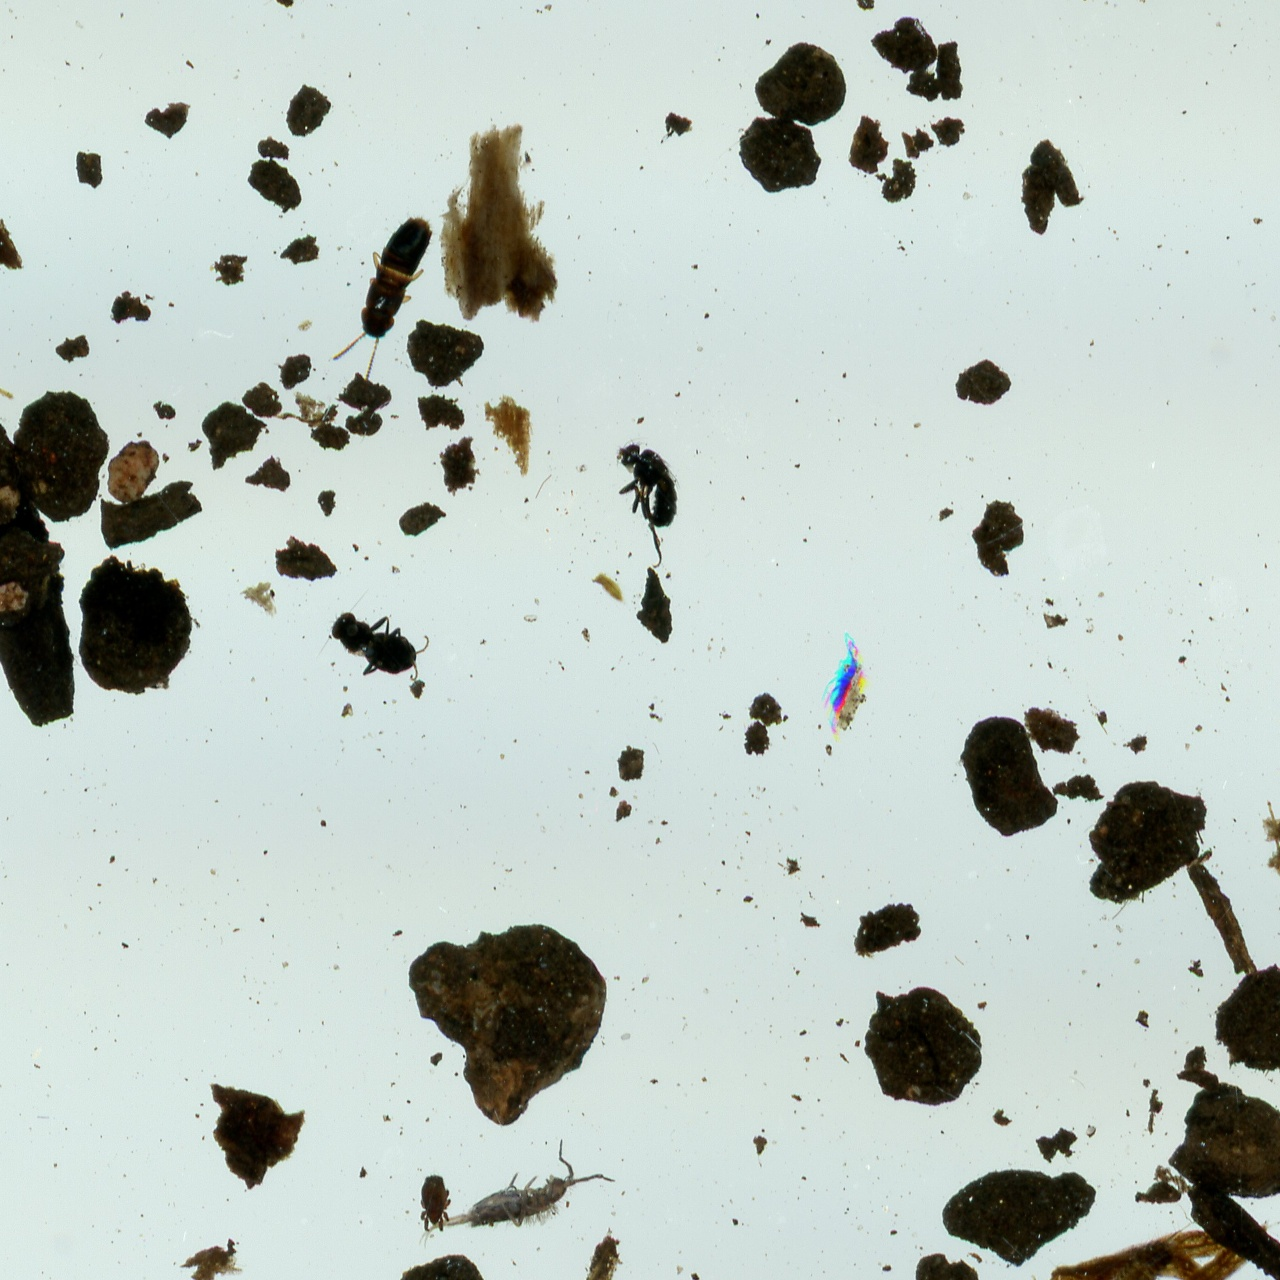arthropod: (396, 1124, 629, 1259), (318, 193, 455, 384), (309, 571, 448, 701), (1050, 1201, 1217, 1280), (611, 437, 683, 572), (416, 1172, 455, 1235)
